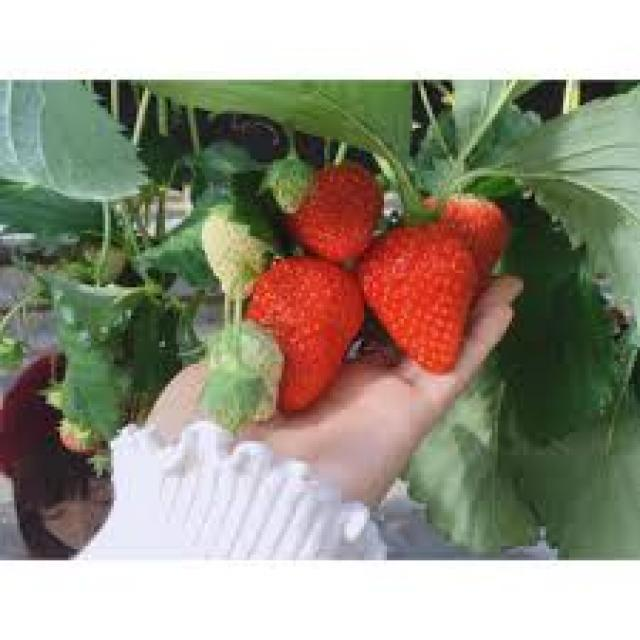Fruta sana: (354, 216, 473, 374), (247, 256, 368, 411), (407, 178, 512, 298), (286, 152, 384, 262)
